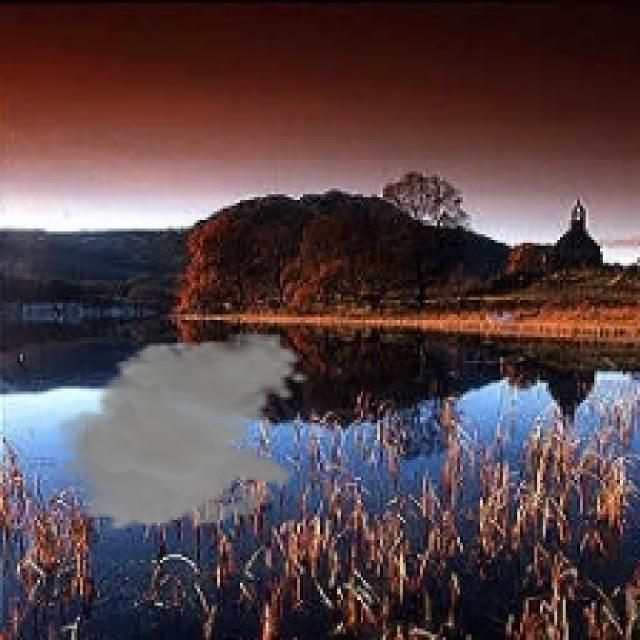Smoke: (45, 332, 308, 532)
